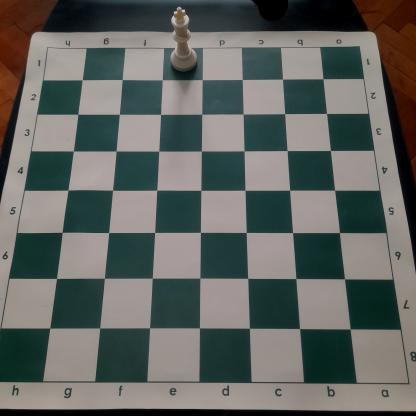white-king: (168, 6, 198, 73)
